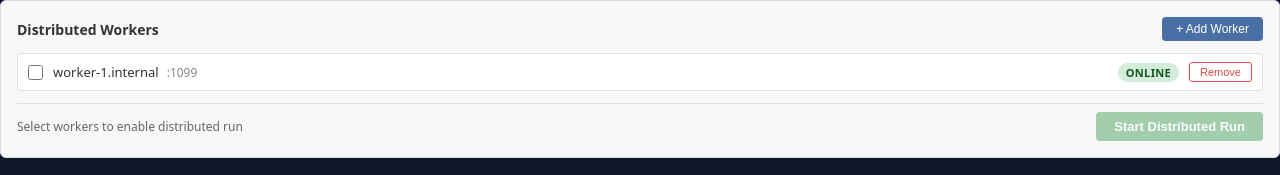
Test: DistributedConfig — worker selection › deselects worker on second click
This screenshot has width=1280, height=175.
What coordinates should you click on to do the following:
click the checkbox named "Select worker"
I would click on:
 (36, 72)
Its box is [28, 64, 43, 80].
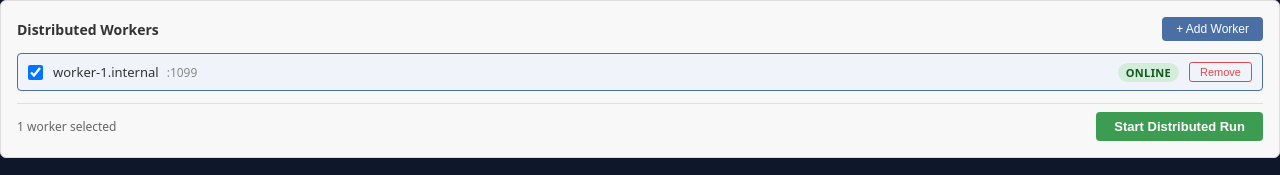
What coordinates should you click on to do the following:
click the checkbox named "Select worker"
I would click on:
 (36, 72)
Its box is [28, 64, 43, 80].
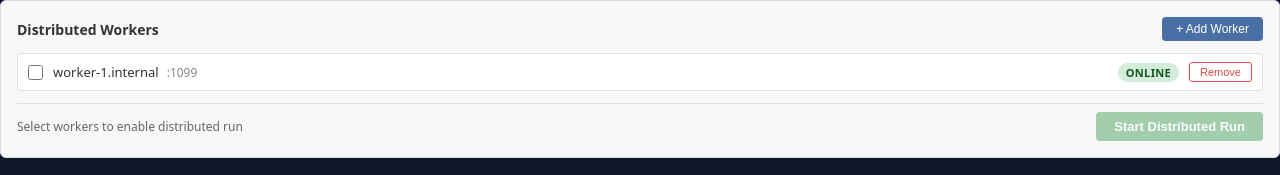
Check: the text "Select workers to enable distributed run" is shown, box [17, 118, 243, 135]
